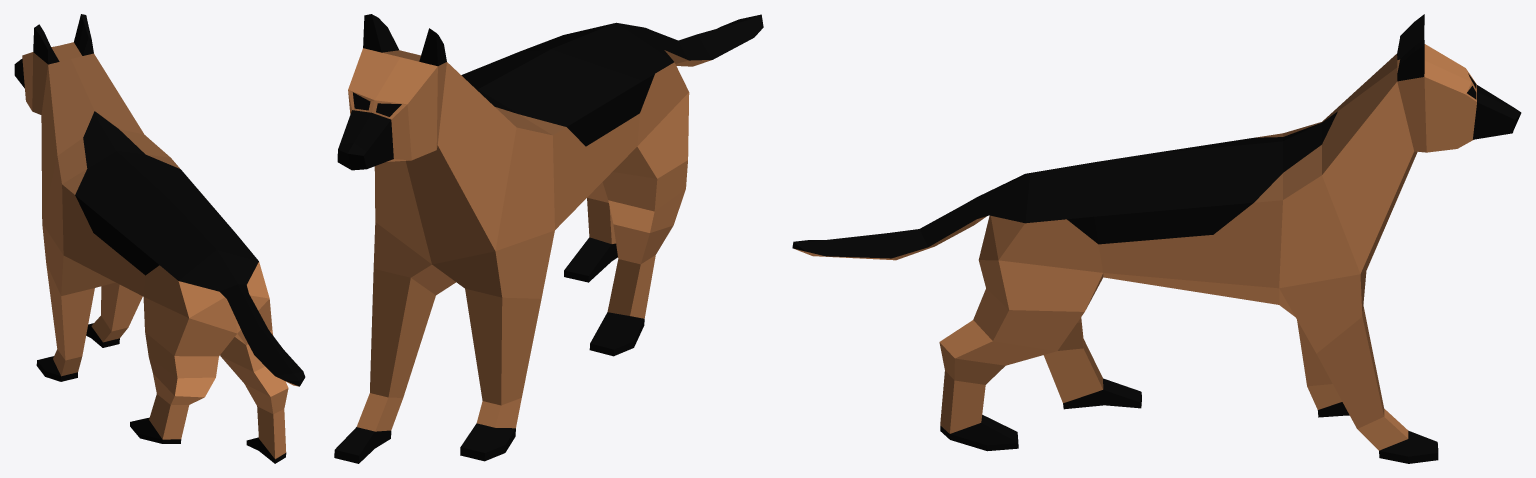
The model's file is дог.fbx.
3 views of the same model, side by side, from view 1: azimuth 30°, elevation 25°; view 2: azimuth 150°, elevation 25°; view 3: azimuth 270°, elevation 25° (orthographic). The views are drawn at different scales.
Parts seen in each view (by area): view 1: Cube; view 2: Cube; view 3: Cube.
Part boxes in pixels (x1=…): Cube: x1=14, y1=14, x2=305, y2=463; Cube: x1=334, y1=14, x2=763, y2=463; Cube: x1=792, y1=14, x2=1521, y2=463.
Size of the model in its own units: 200 by 570 by 921.
